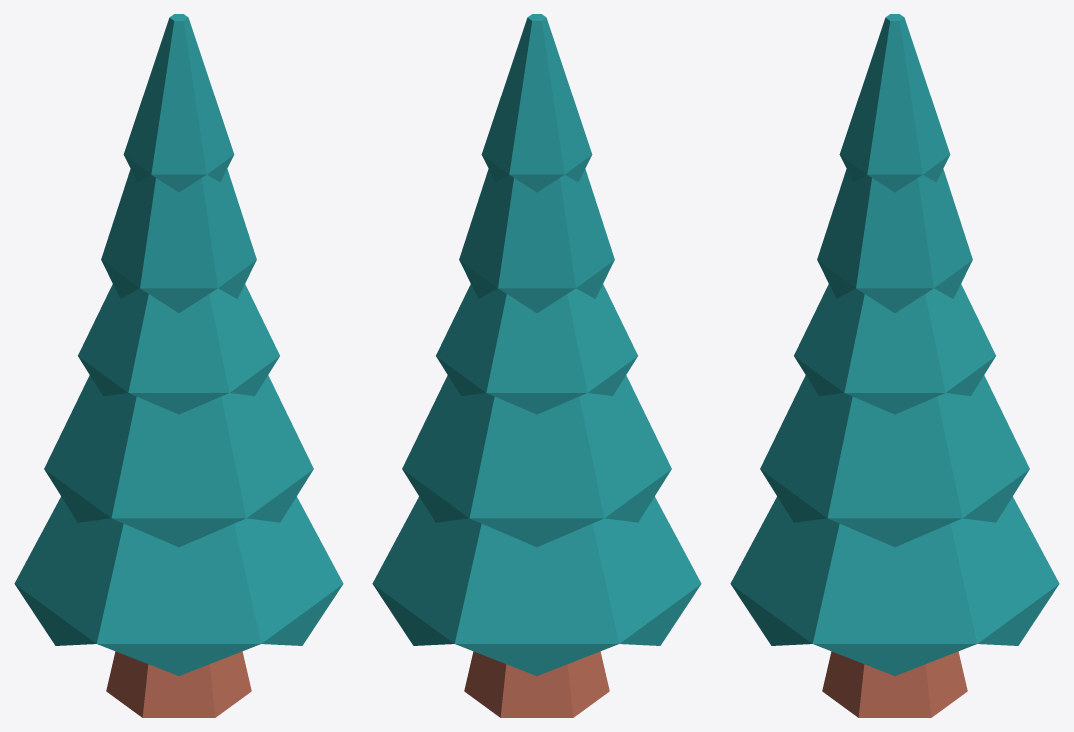
File: tree-pine-round-c.glb
The picture shows the model from 3 angles, left to right: view 1: azimuth 30°, elevation 25°; view 2: azimuth 150°, elevation 25°; view 3: azimuth 270°, elevation 25°; orthographic projection.
Visible parts, largest first — view 1: tree_pineRoundC; view 2: tree_pineRoundC; view 3: tree_pineRoundC.
Boxes of the visible parts, left/top/right/bottom form: tree_pineRoundC: left=14, top=14, right=343, bottom=717; tree_pineRoundC: left=372, top=14, right=701, bottom=717; tree_pineRoundC: left=730, top=14, right=1059, bottom=717.
Bounding box in the file's own units: 0.4804 × 1.25 × 0.5547.
